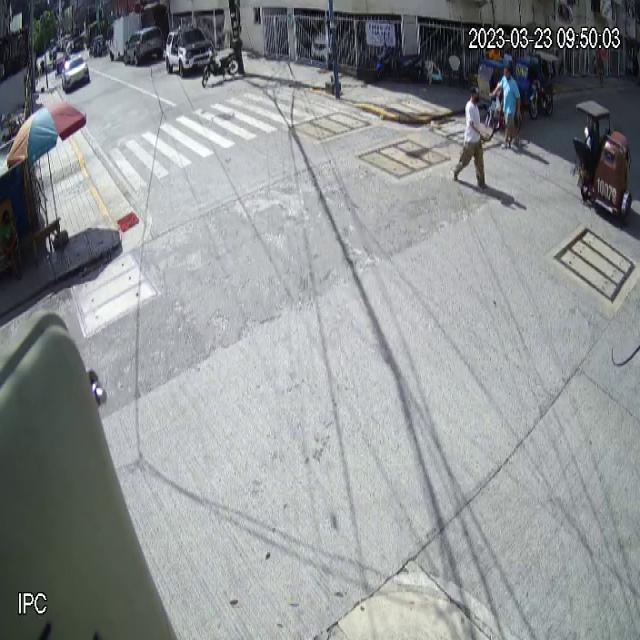Tricycle: (572, 99, 634, 226)
